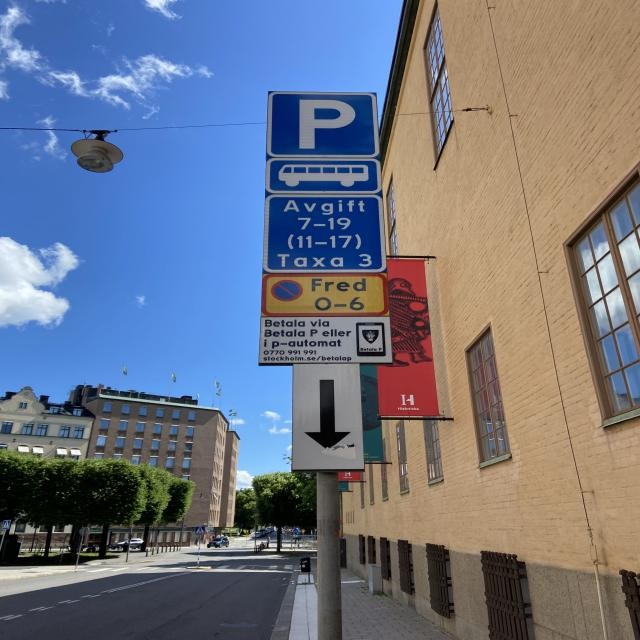P-skylt: (266, 87, 379, 159)
